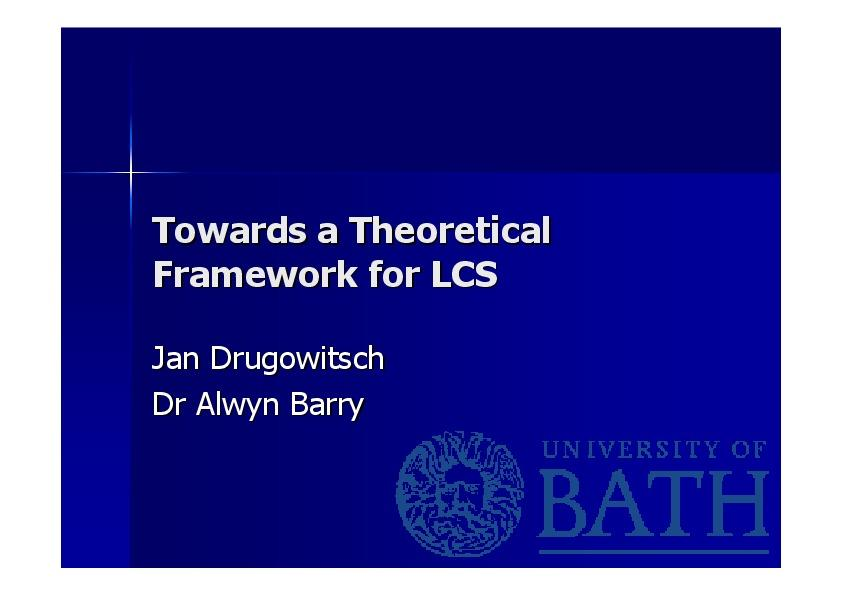subtitle: (141, 334, 388, 448)
title: (144, 204, 576, 309)
